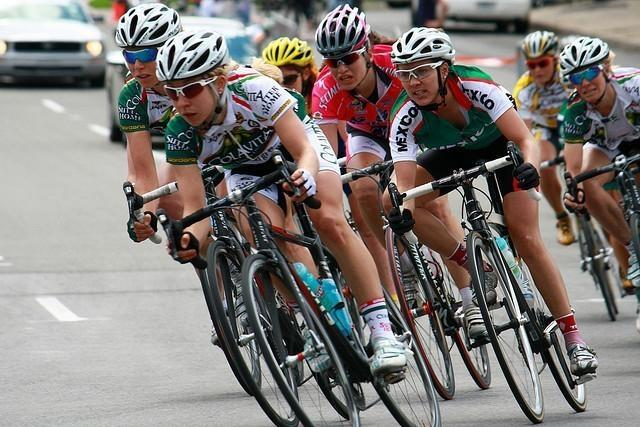bicycle: (180, 176, 435, 422), (380, 148, 602, 422), (387, 223, 495, 403), (157, 146, 290, 260), (540, 157, 614, 318), (197, 212, 259, 395), (574, 147, 640, 270), (122, 181, 178, 246)
car: (2, 0, 106, 88), (434, 0, 532, 32)
